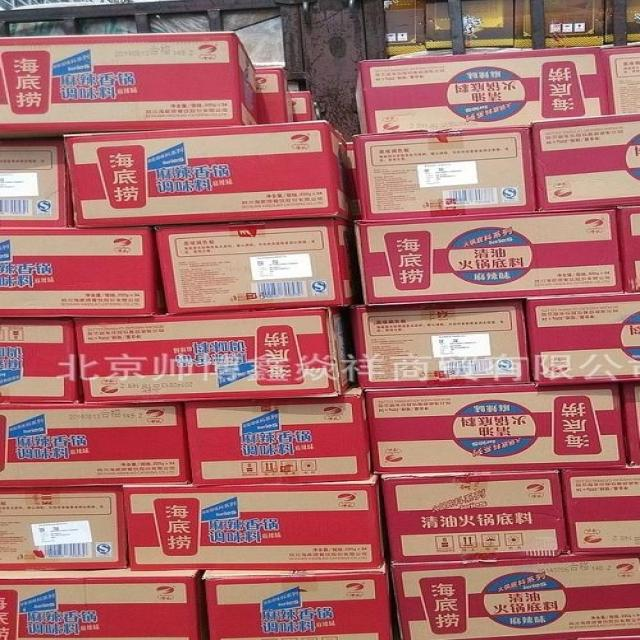box: (65, 121, 352, 227), (0, 31, 259, 138), (76, 306, 356, 403), (355, 207, 625, 306), (123, 474, 389, 571), (369, 382, 628, 474), (353, 46, 609, 134), (389, 552, 640, 640), (155, 217, 362, 314), (186, 384, 374, 487), (381, 469, 571, 563), (353, 127, 539, 220), (0, 403, 188, 488), (351, 300, 530, 388), (0, 227, 166, 318), (0, 568, 207, 640), (204, 568, 396, 640), (0, 487, 129, 571), (524, 292, 640, 385), (529, 114, 640, 211), (0, 320, 84, 403), (0, 138, 77, 227), (561, 468, 640, 553), (603, 44, 640, 114), (257, 68, 296, 124), (620, 204, 640, 293), (621, 382, 640, 468), (292, 91, 317, 121)
